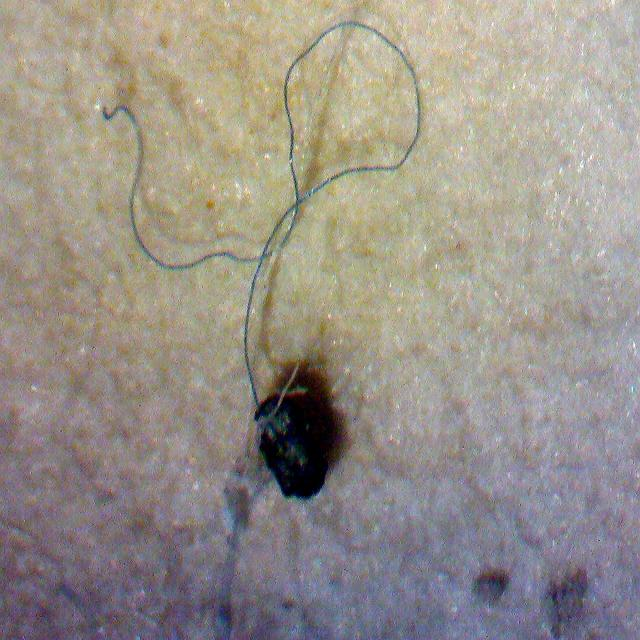microplastic: (102, 104, 263, 270), (284, 21, 421, 204), (244, 260, 262, 408)
